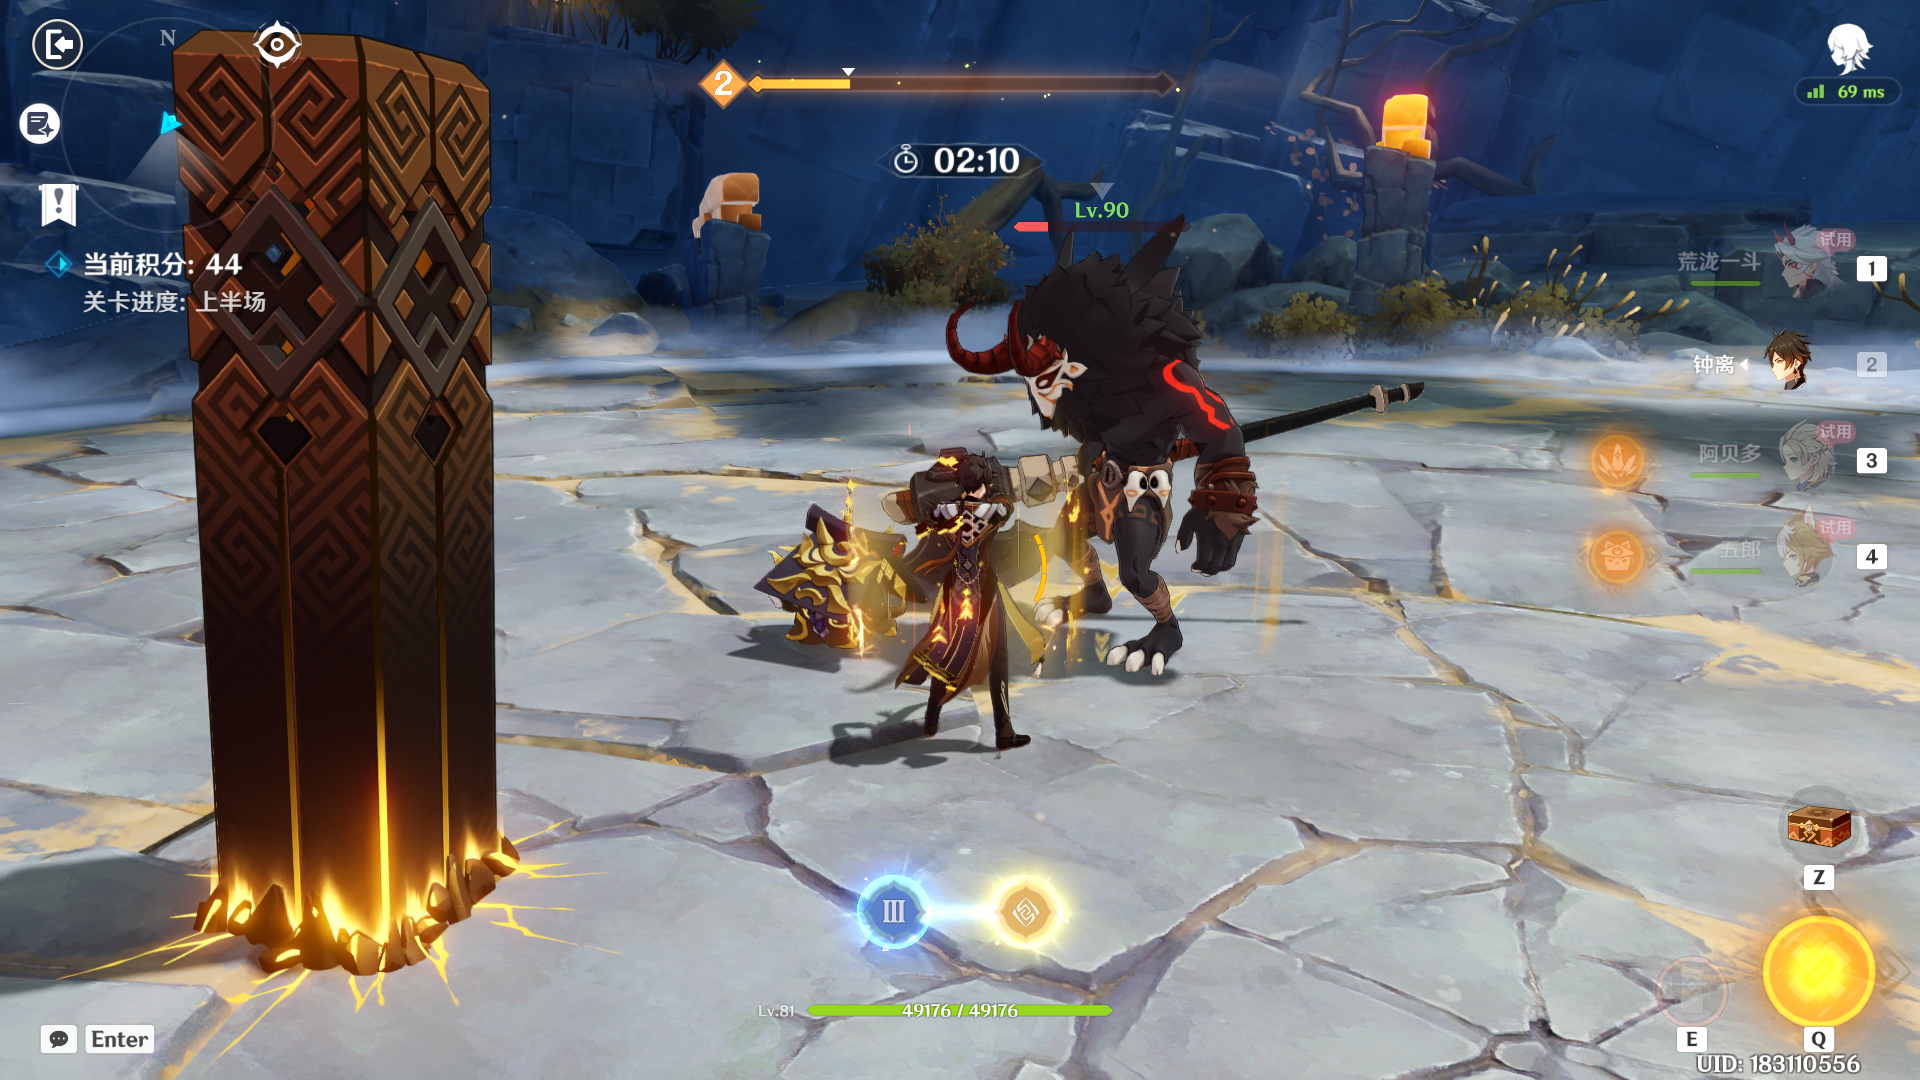bighili: (802, 214, 1317, 702)
character: (862, 450, 1079, 802)
